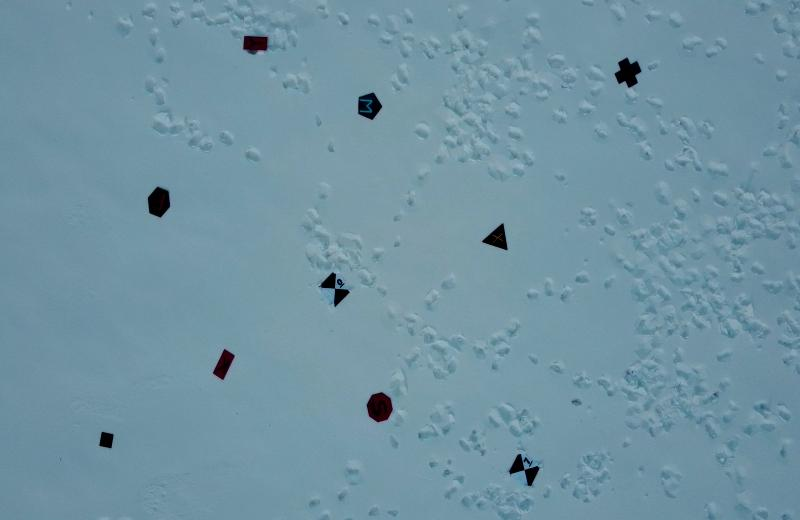Cross: (613, 55, 644, 92)
Hexagon: (144, 185, 173, 221)
Octagon: (366, 390, 394, 423)
Pentagon: (354, 89, 385, 124)
Rectangle: (209, 344, 237, 382), (241, 31, 271, 55)
Square: (96, 428, 117, 451)
Triangle: (478, 220, 512, 254)
